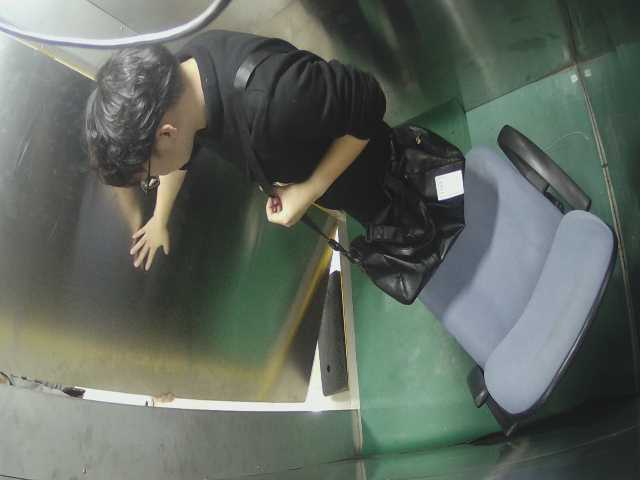bag: (342, 117, 474, 310)
chair: (414, 136, 630, 429)
person: (62, 21, 410, 259)
